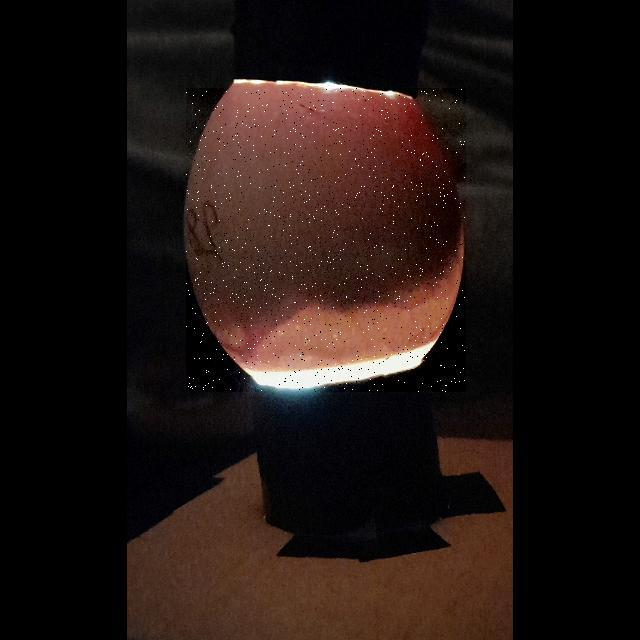Fertile: (186, 88, 466, 392)
